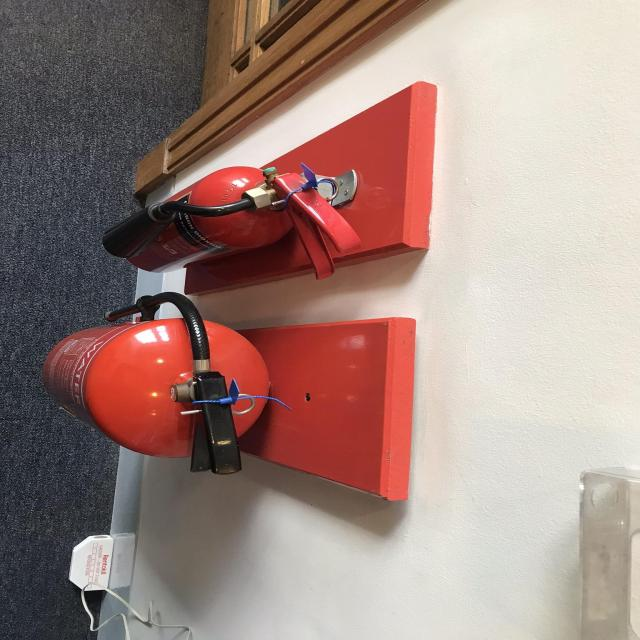fire_extinguisher: (39, 290, 275, 475), (98, 159, 366, 285)
